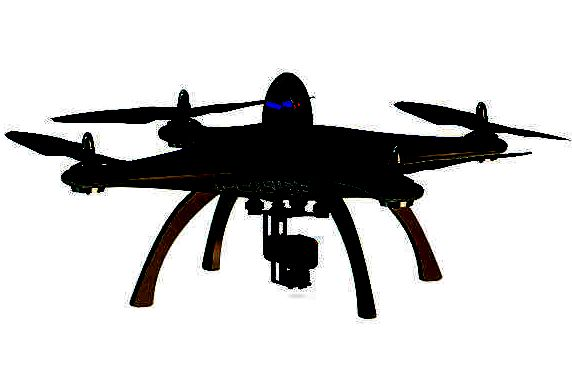Drone: (4, 68, 571, 323)
